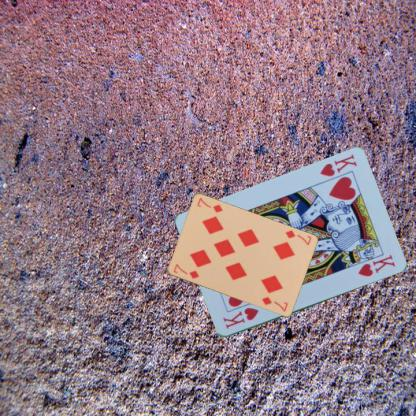7d: (171, 261, 200, 280), (283, 228, 312, 246)
Kh: (317, 152, 358, 178), (220, 305, 260, 331)
